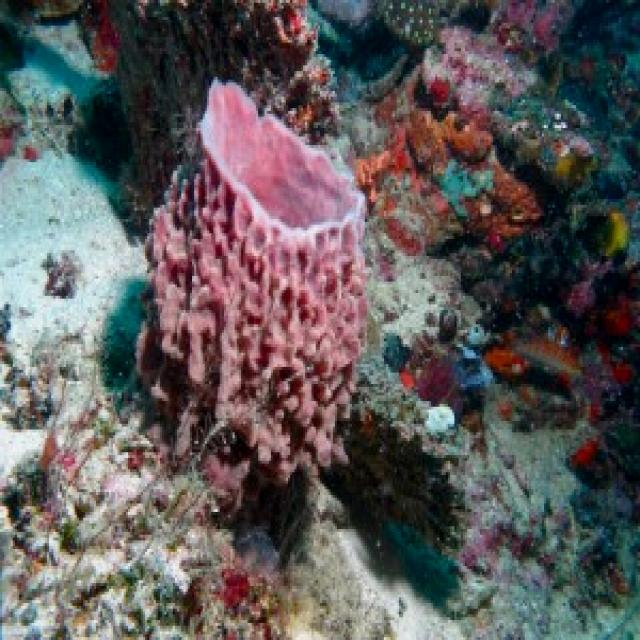Coral: (135, 76, 369, 485)
